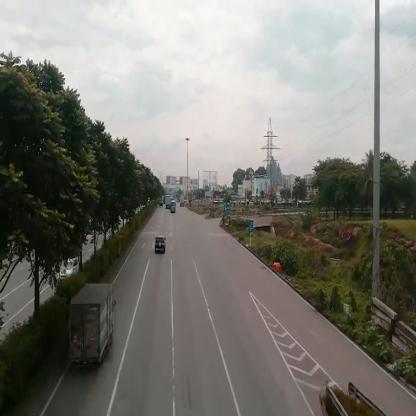bus: (170, 202, 176, 215)
car: (61, 260, 80, 278), (156, 238, 168, 252)
truck: (72, 284, 115, 364)
